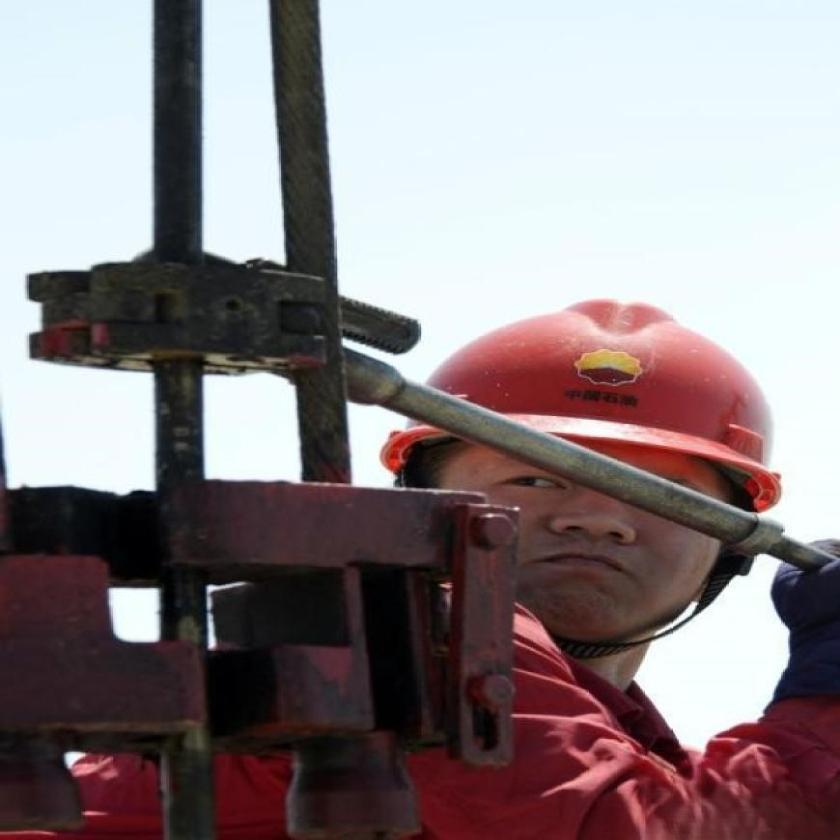Con_casco: (384, 240, 777, 632)
